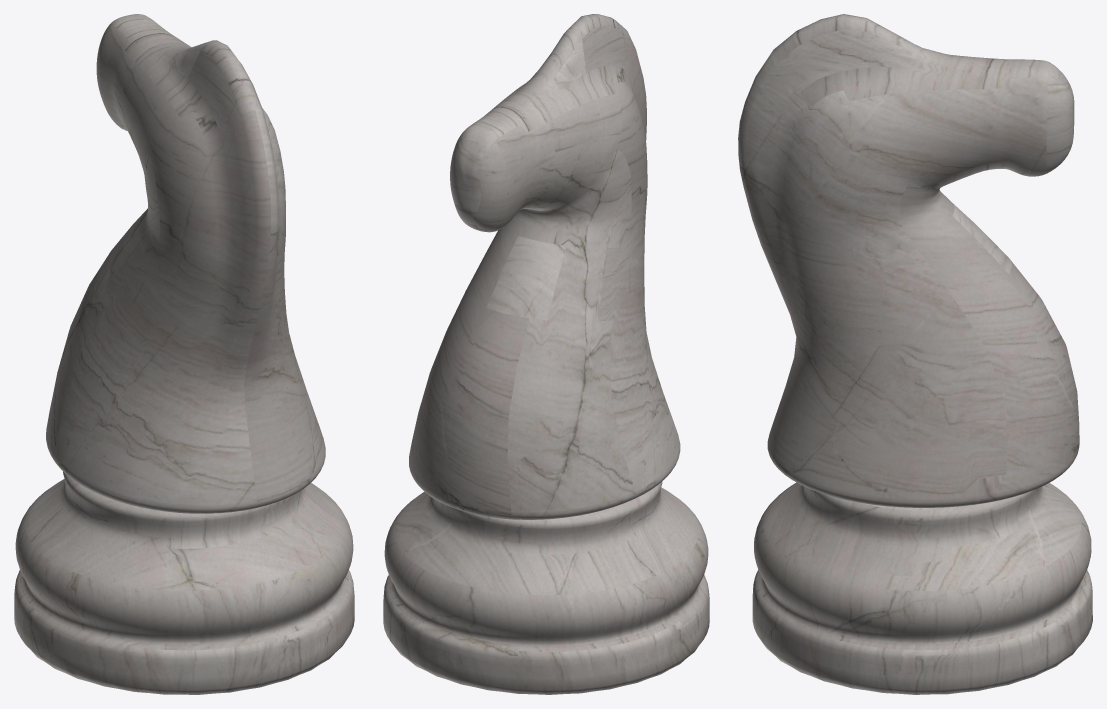
The model's file is WKnight.glb.
3 renders of one model, left to right at view 1: azimuth 30°, elevation 25°; view 2: azimuth 150°, elevation 25°; view 3: azimuth 270°, elevation 25°, orthographic. The views are drawn at different scales.
Parts seen in each view (by area): view 1: Circle.023; view 2: Circle.023; view 3: Circle.023.
Boxes of the visible parts, box(x1,y1,x2,y2) form: Circle.023: box(14, 14, 354, 694); Circle.023: box(383, 14, 709, 694); Circle.023: box(738, 14, 1092, 694).
Bounding box in the file's own units: 2.67 × 5.31 × 2.78.
Materials: 1 (1 with a texture image).
